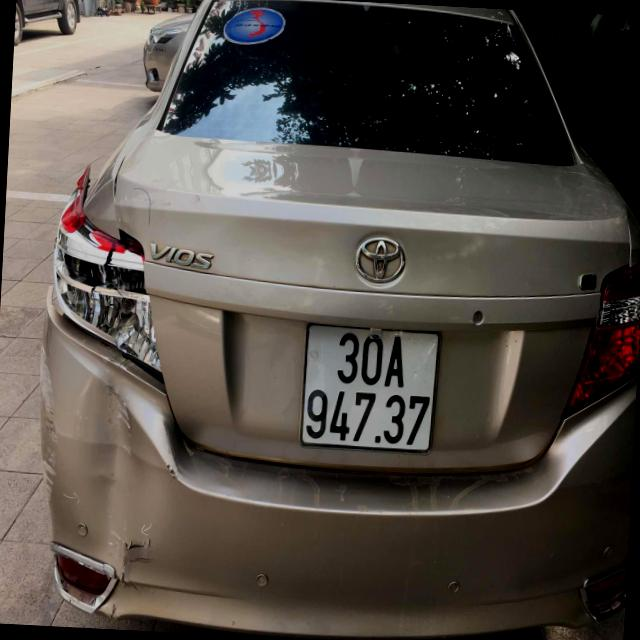Cabossage: (69, 380, 157, 533)
Dechirure: (118, 526, 159, 557), (111, 153, 125, 205), (106, 605, 118, 619)
Phare abime: (39, 167, 175, 387)
Rayure: (29, 350, 69, 512), (97, 379, 148, 471)
